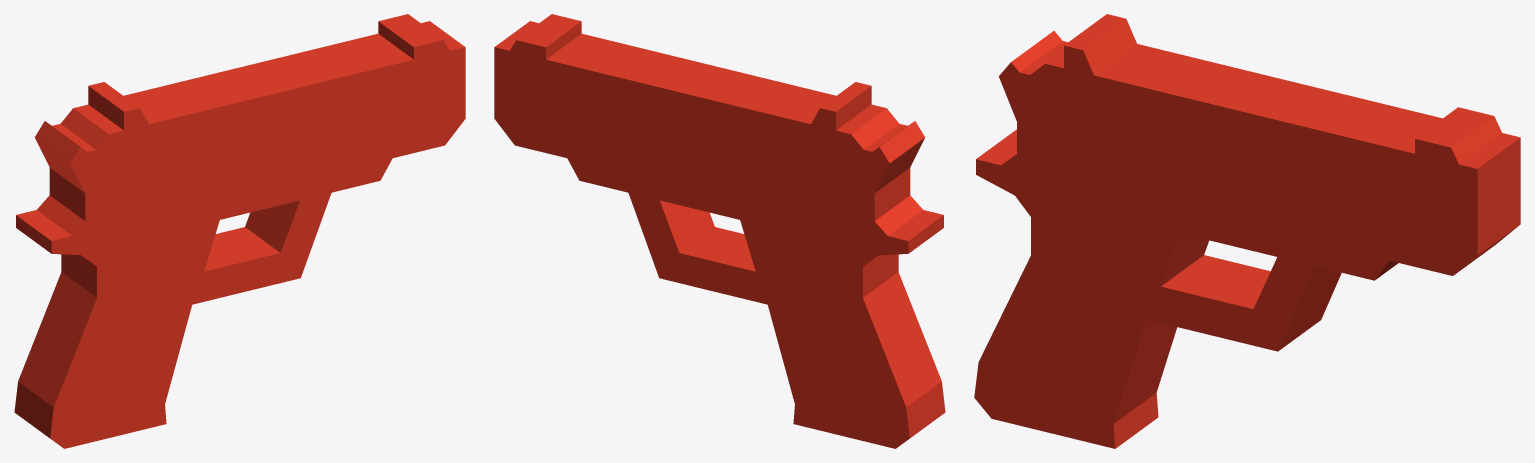
Rendered from Icon_HandGun.fbx.
3 views of the same model, side by side, from view 1: azimuth 30°, elevation 25°; view 2: azimuth 150°, elevation 25°; view 3: azimuth 330°, elevation 25° (orthographic). The views are drawn at different scales.
Parts seen in each view (by area): view 1: Icon_HandGun; view 2: Icon_HandGun; view 3: Icon_HandGun.
Boxes of the visible parts, bbox=[...] form: Icon_HandGun: bbox=[14, 14, 465, 448]; Icon_HandGun: bbox=[494, 14, 945, 448]; Icon_HandGun: bbox=[974, 14, 1520, 448].
Bounding box in the file's own units: 81.21 × 60.25 × 12.06.
